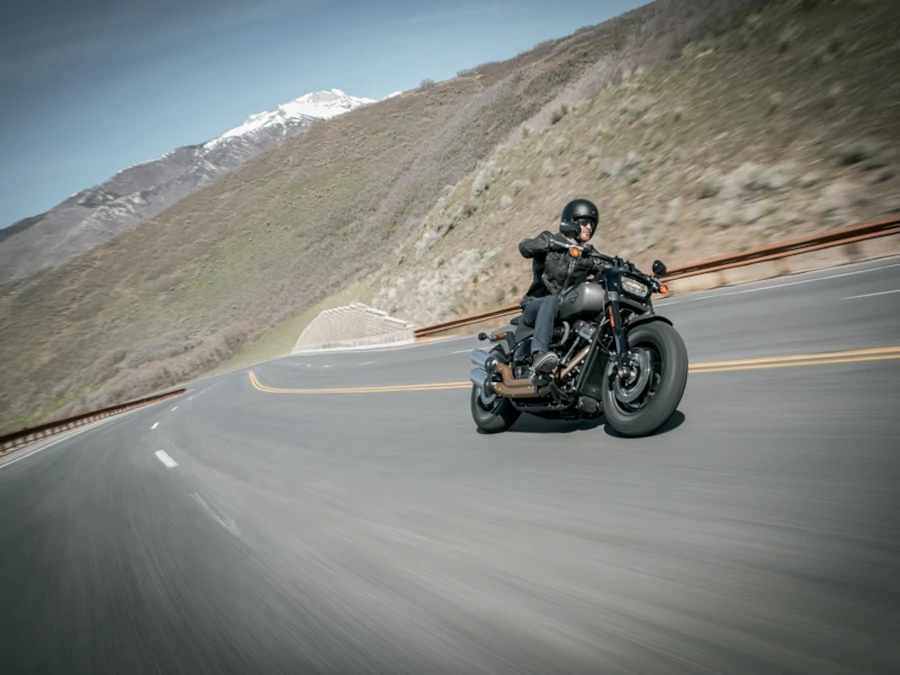helmet: (532, 188, 630, 370)
